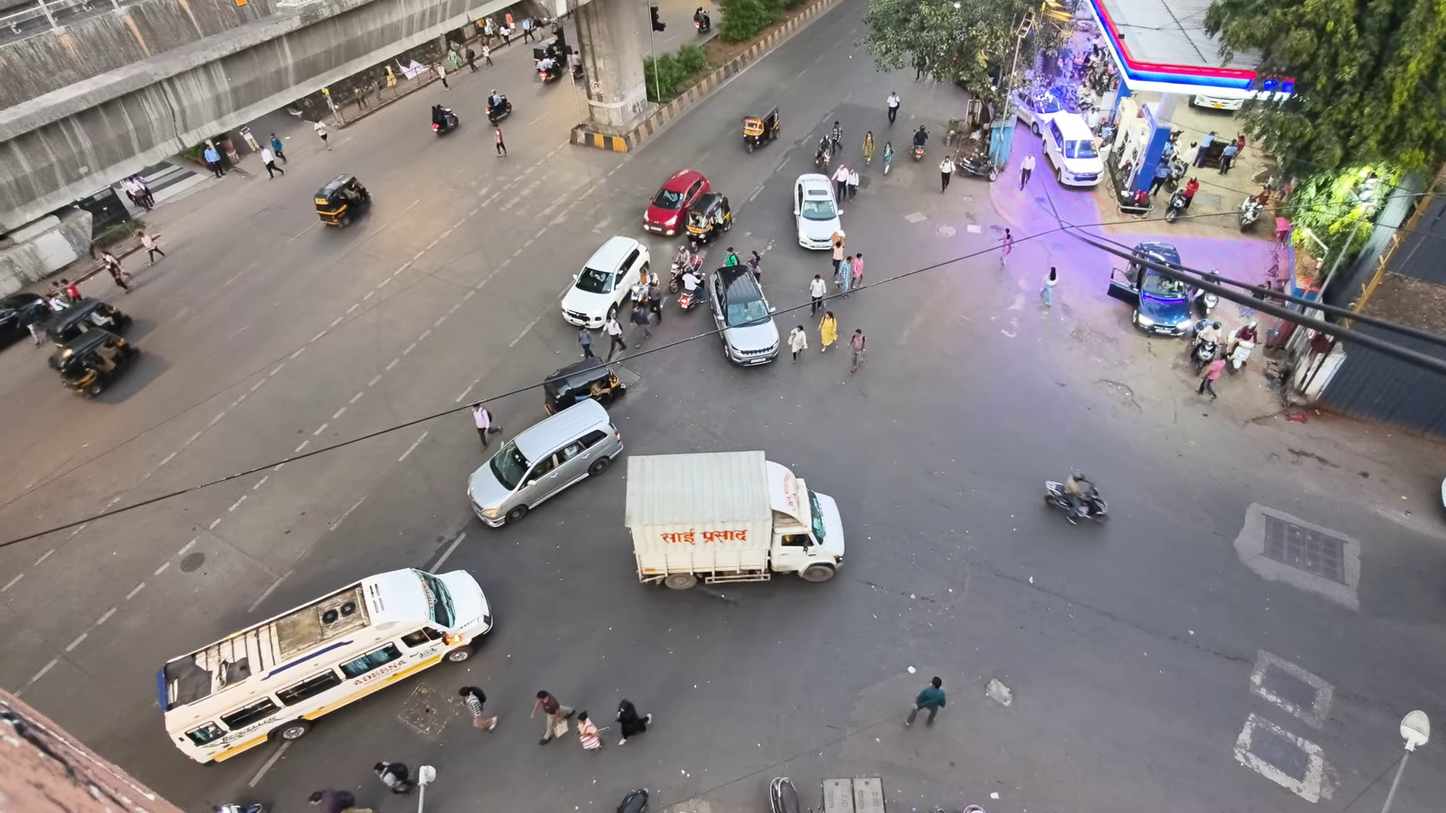driving: (624, 451, 844, 589), (1108, 242, 1193, 336), (642, 169, 709, 236)
walking: (529, 690, 573, 744), (905, 676, 945, 726), (616, 699, 652, 745), (459, 686, 495, 730), (374, 762, 415, 793), (309, 787, 357, 812), (1197, 358, 1225, 399), (102, 251, 130, 292), (577, 711, 602, 751), (604, 314, 625, 360), (472, 403, 491, 447), (1193, 131, 1216, 167), (139, 232, 165, 263), (646, 275, 662, 324), (630, 303, 651, 339), (819, 311, 837, 352), (203, 142, 224, 177), (787, 327, 807, 363), (1149, 161, 1170, 195), (849, 329, 865, 373), (809, 274, 826, 315), (831, 230, 845, 279), (261, 147, 283, 178), (1040, 266, 1057, 306), (832, 163, 848, 202), (1020, 153, 1036, 190), (837, 255, 851, 297), (999, 228, 1014, 267), (1219, 142, 1237, 174), (578, 326, 595, 359), (270, 133, 288, 163), (939, 157, 954, 192), (746, 250, 761, 284), (60, 278, 81, 302), (27, 318, 45, 346), (313, 120, 329, 150), (849, 253, 862, 288), (886, 92, 900, 124), (433, 62, 449, 89), (830, 120, 842, 154), (847, 168, 860, 199), (863, 130, 874, 165), (883, 142, 894, 175), (495, 126, 506, 156), (724, 246, 740, 266), (480, 42, 493, 66), (520, 17, 532, 41), (465, 47, 476, 72)
